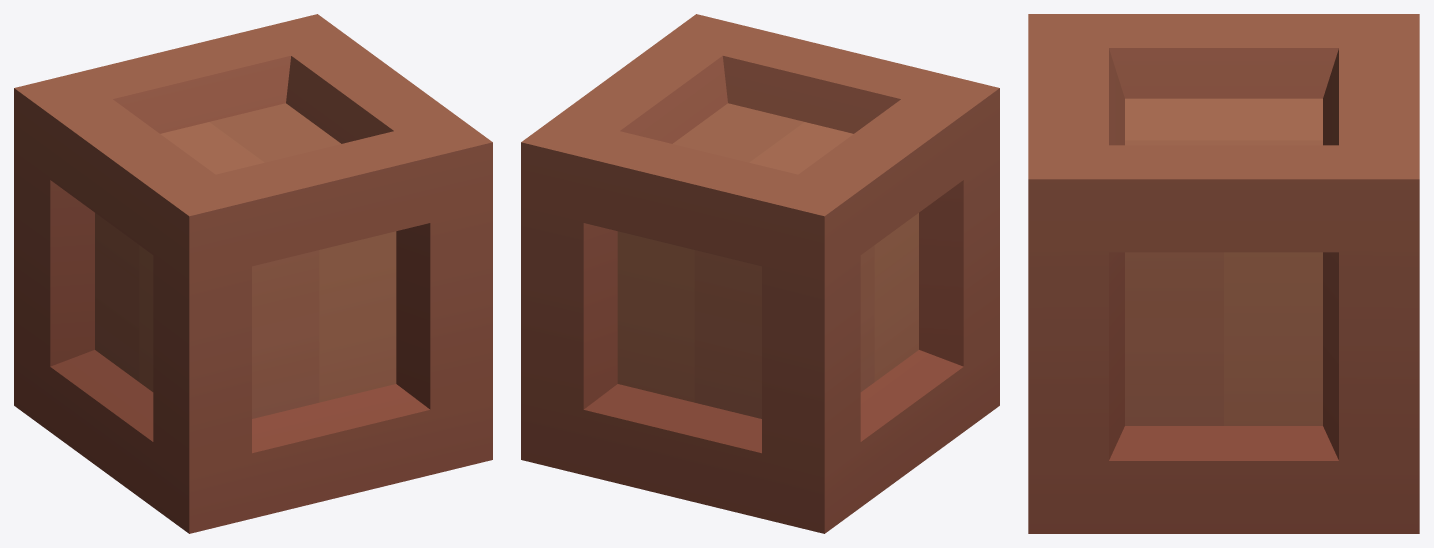
Rendered from d_kaykit_cageot.glb.
3 renders of one model, left to right at view 1: azimuth 30°, elevation 25°; view 2: azimuth 150°, elevation 25°; view 3: azimuth 270°, elevation 25°, orthographic. The views are drawn at different scales.
Visible parts, largest first — view 1: d_kaykit_cageot; view 2: d_kaykit_cageot; view 3: d_kaykit_cageot.
Part boxes in pixels (bbox=[...]): d_kaykit_cageot: bbox=[14, 14, 492, 533]; d_kaykit_cageot: bbox=[521, 14, 999, 533]; d_kaykit_cageot: bbox=[1028, 14, 1419, 533].
Size of the model in its own units: 0.14 by 0.14 by 0.14.
1 material, 1 textured.
